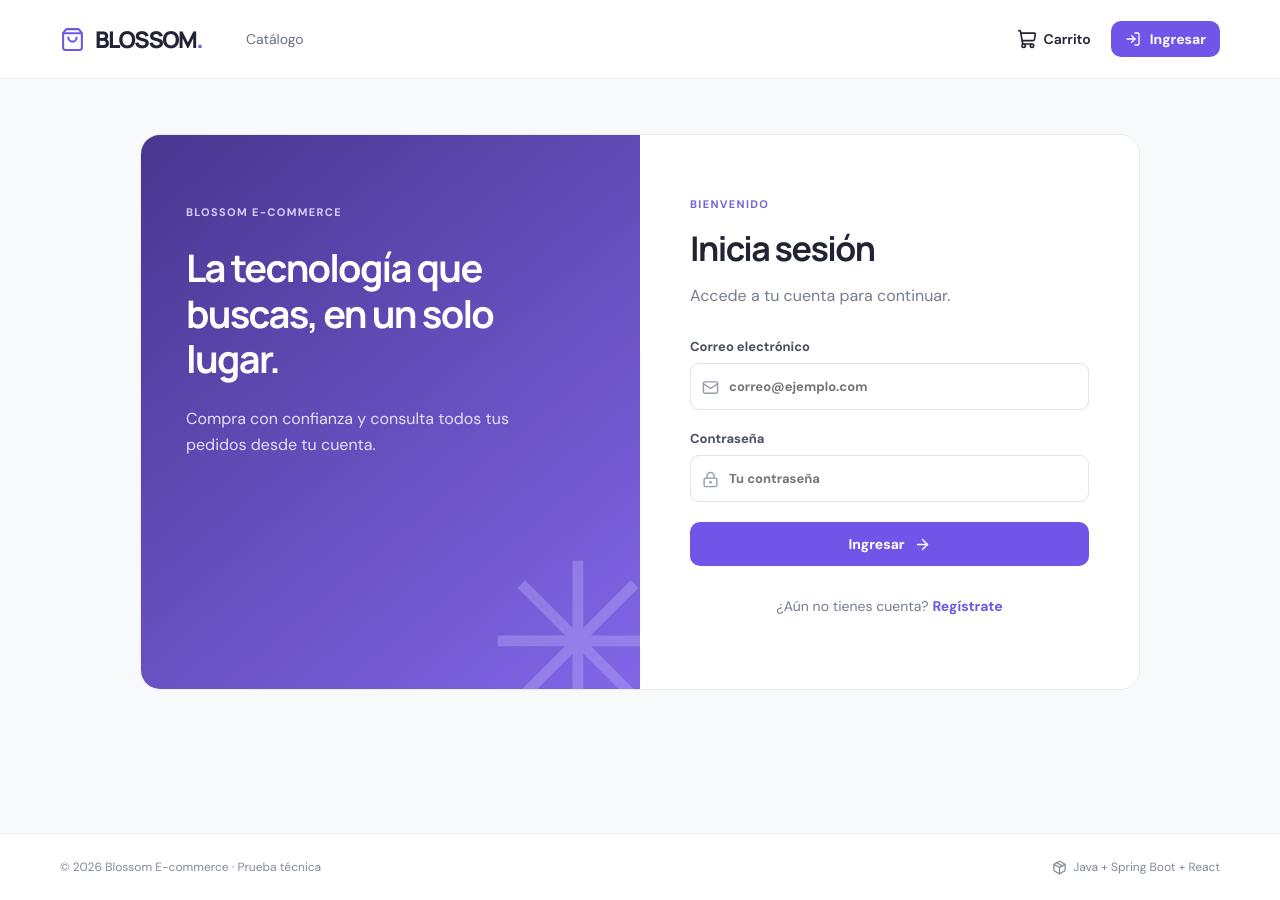
Scenario: Login y registro › muestra error al fallar el login sin guardar credenciales
Type "cliente@blossom.test" into the field with placeholder "correo@ejemplo.com".
click(890, 387); type("cliente@blossom.test")  # box [690, 363, 1089, 410]
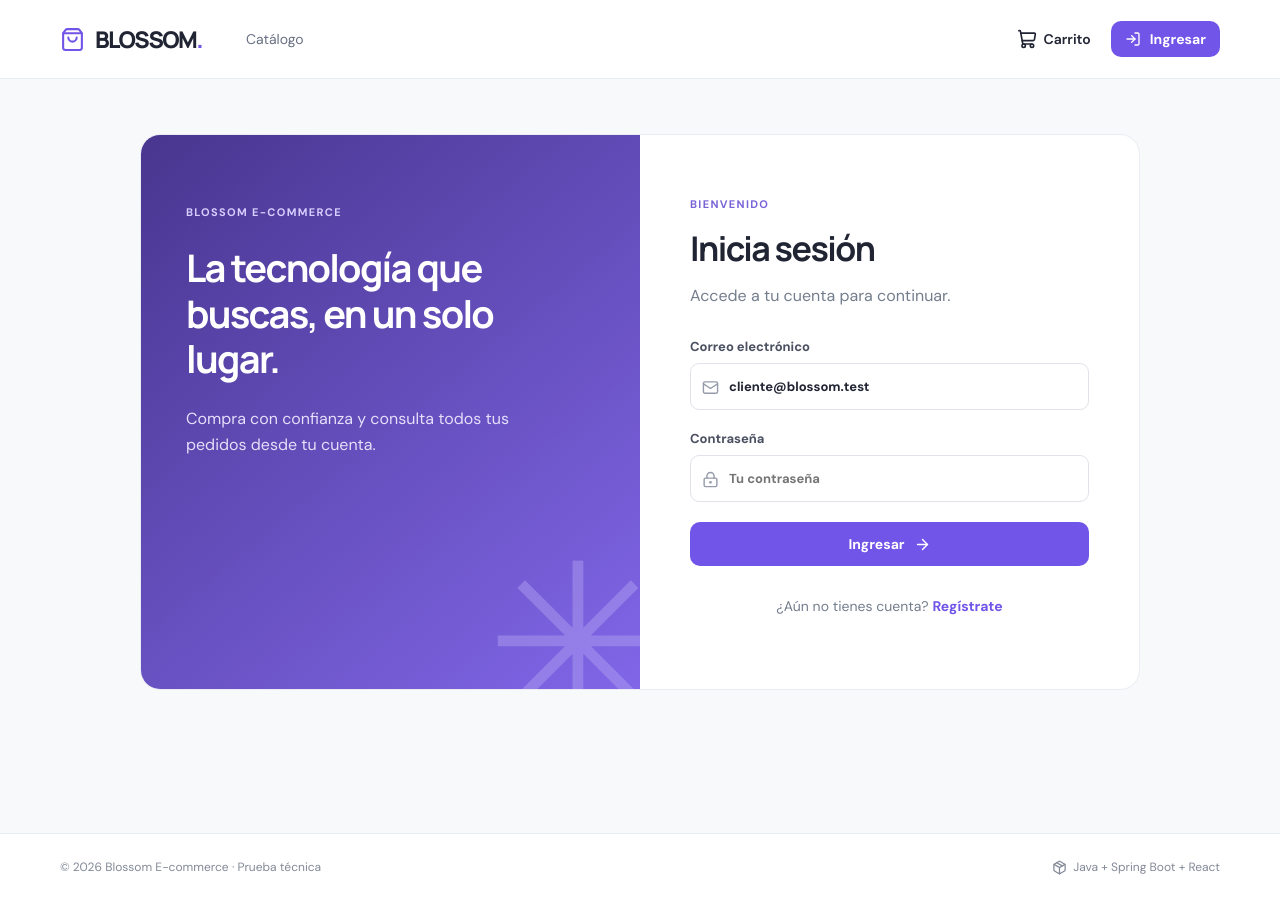
Type "Incorrecta123!" into the password field with placeholder "Tu contraseña".
click(890, 479); type("Incorrecta123!")  # box [690, 455, 1089, 502]
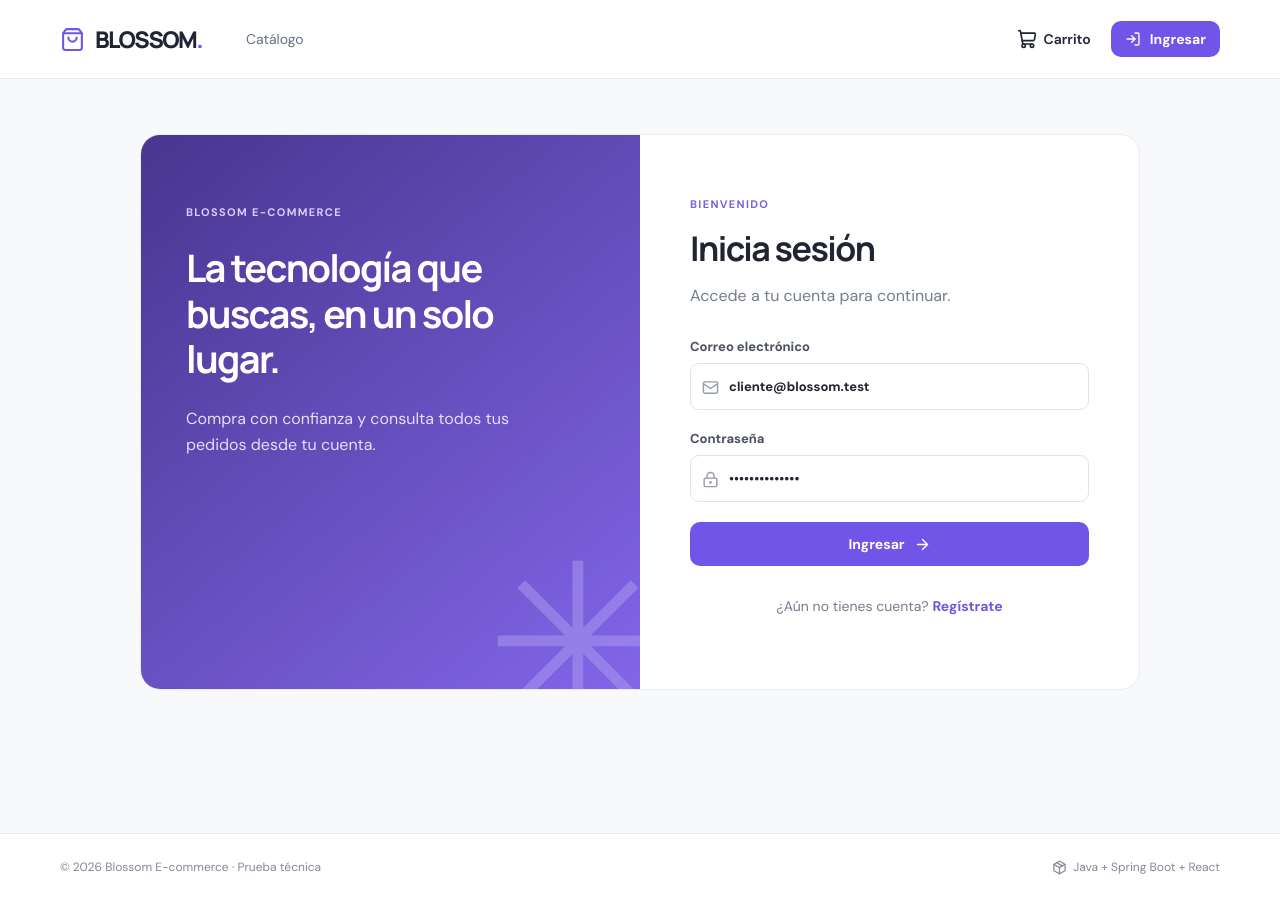
Click the button "Ingresar".
click(890, 544)  # box [690, 522, 1089, 566]
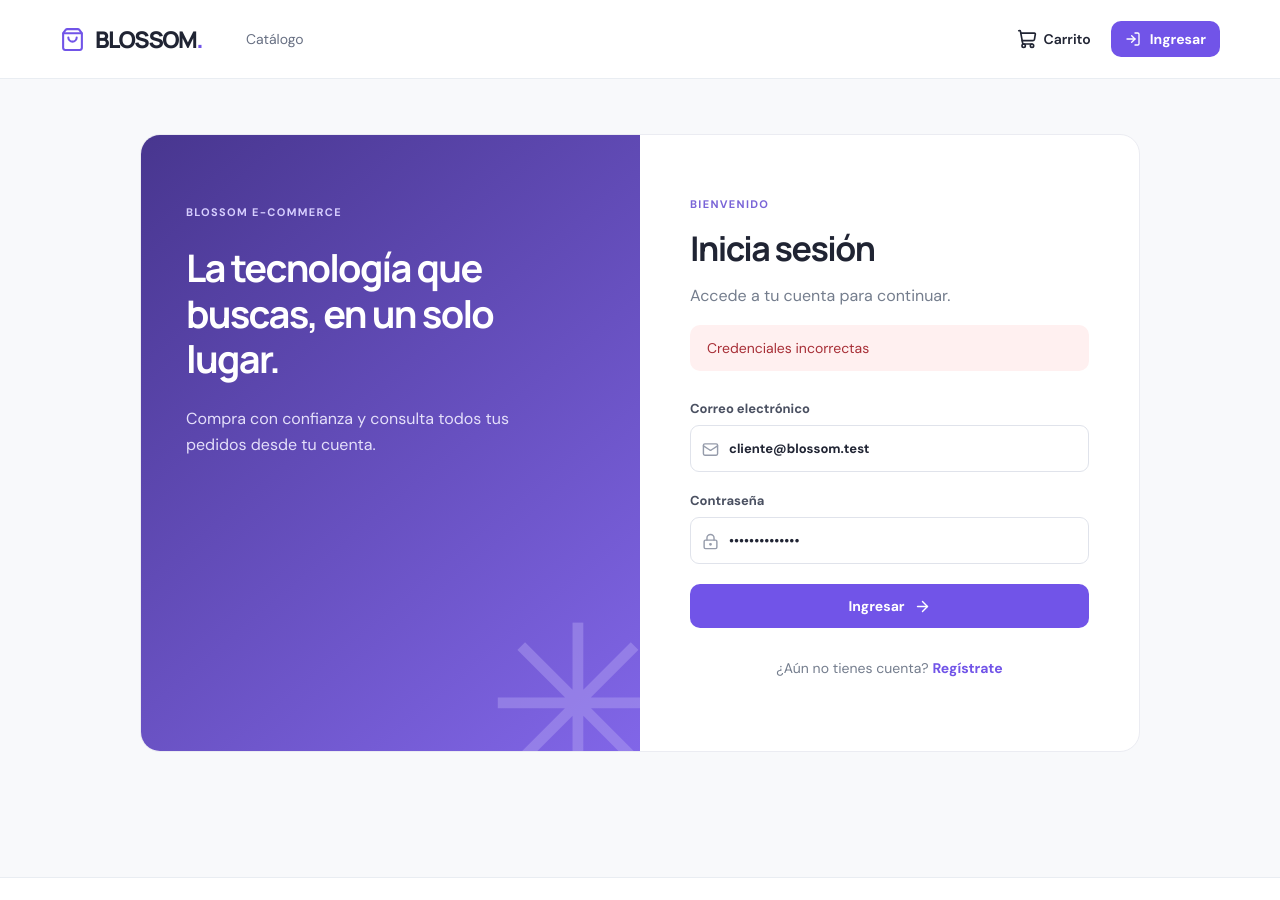
Now the message reads "Credenciales incorrectas", box [707, 339, 869, 357]
